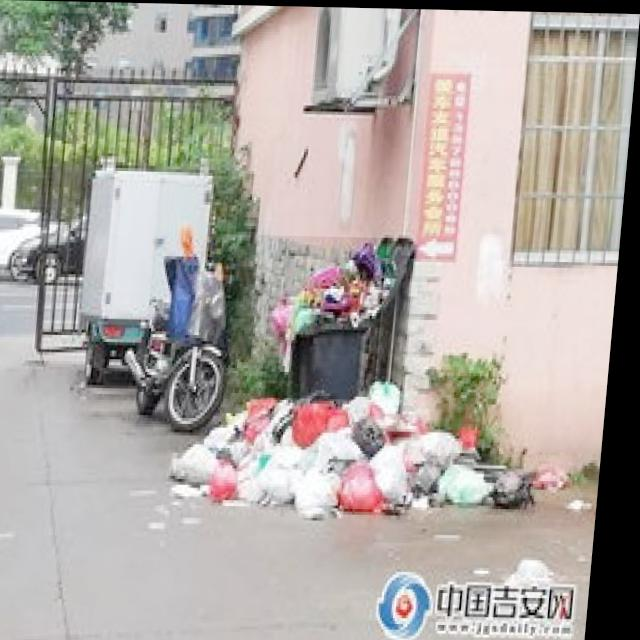garbage: (170, 371, 584, 520)
overflow: (268, 234, 392, 398)
